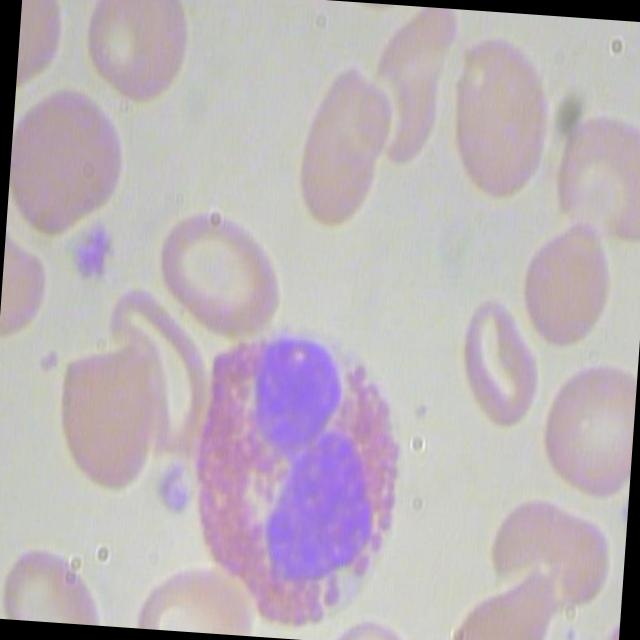Platelets: (64, 217, 120, 283), (153, 461, 195, 512)
RBC: (5, 72, 128, 245), (446, 30, 560, 210), (284, 61, 402, 232), (147, 199, 290, 340), (40, 330, 158, 500), (530, 358, 637, 506), (448, 294, 554, 434), (506, 210, 612, 350), (548, 101, 640, 241), (77, 0, 189, 114)
WBC: (179, 305, 429, 640)
